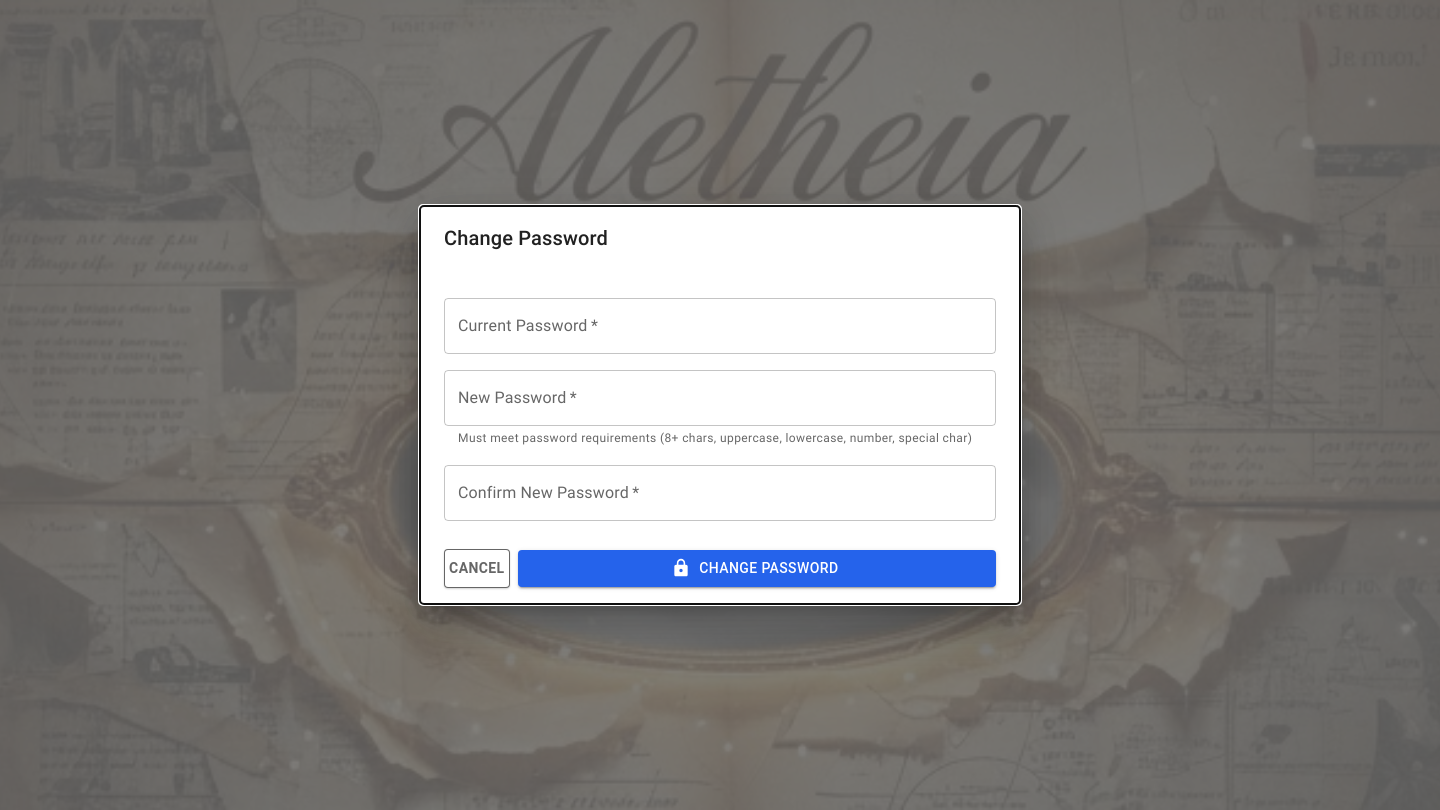
Authentication Flow Integration › Change Password Flow › should complete change password flow successfully
Type "OldPass123!" into the password field labelled "Current Password *" at (720, 326), box [444, 298, 996, 354]
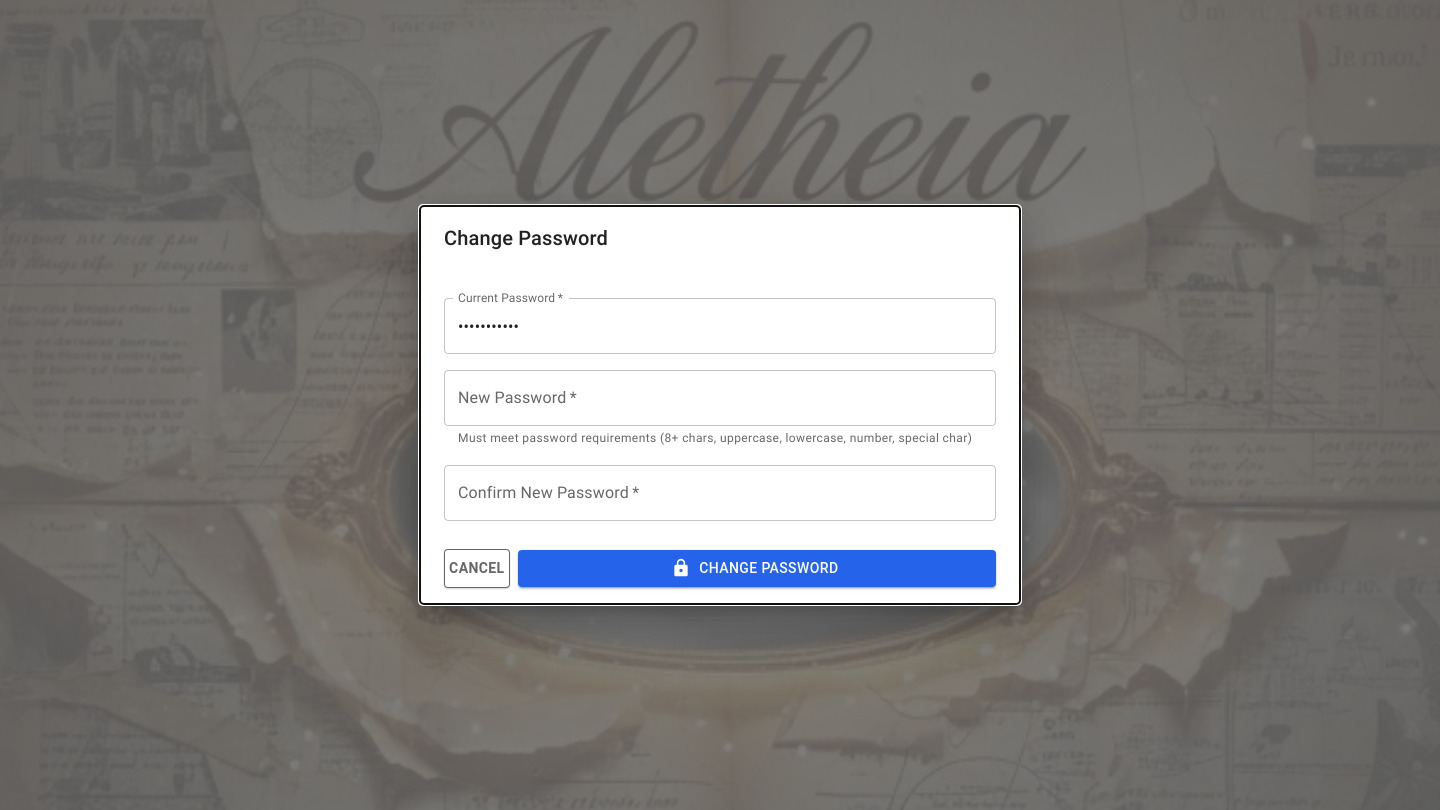
Type "NewPass123!" into the password field labelled "New Password *" at (720, 398), box [444, 370, 996, 426]
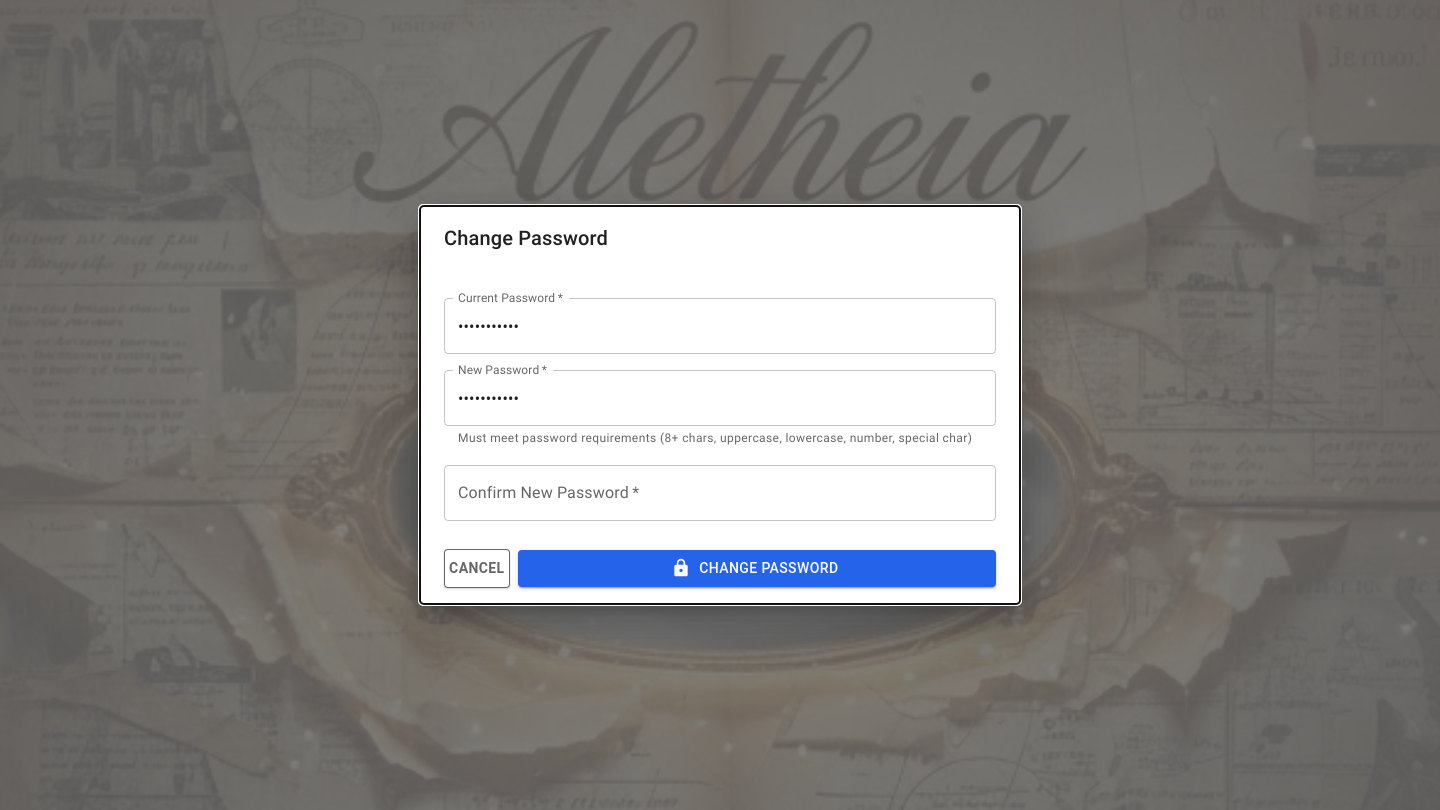
Type "NewPass123!" into the password field labelled "Confirm New Password *" at (720, 493), box [444, 465, 996, 521]
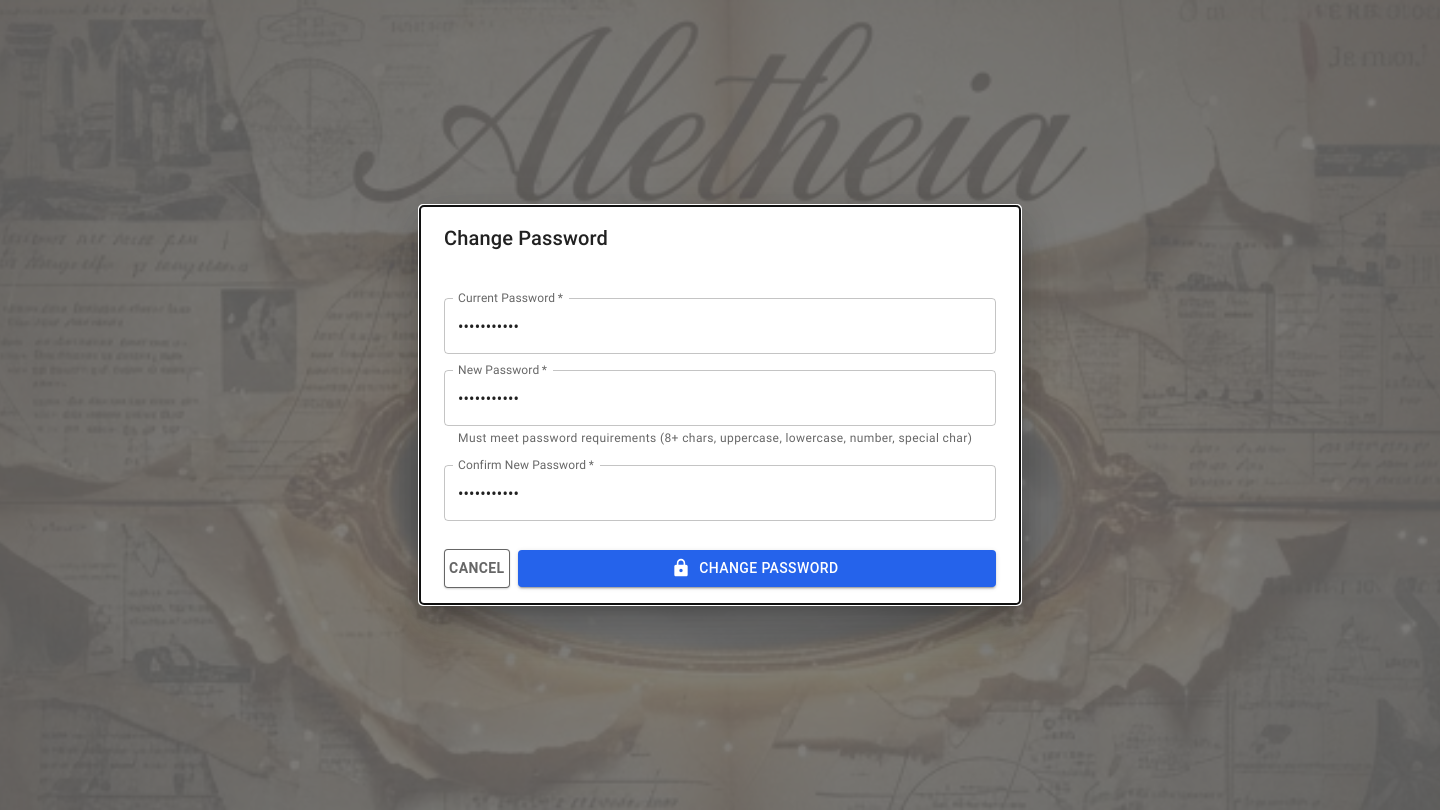
Click the button "Change Password" at (757, 568), box [518, 550, 996, 587]
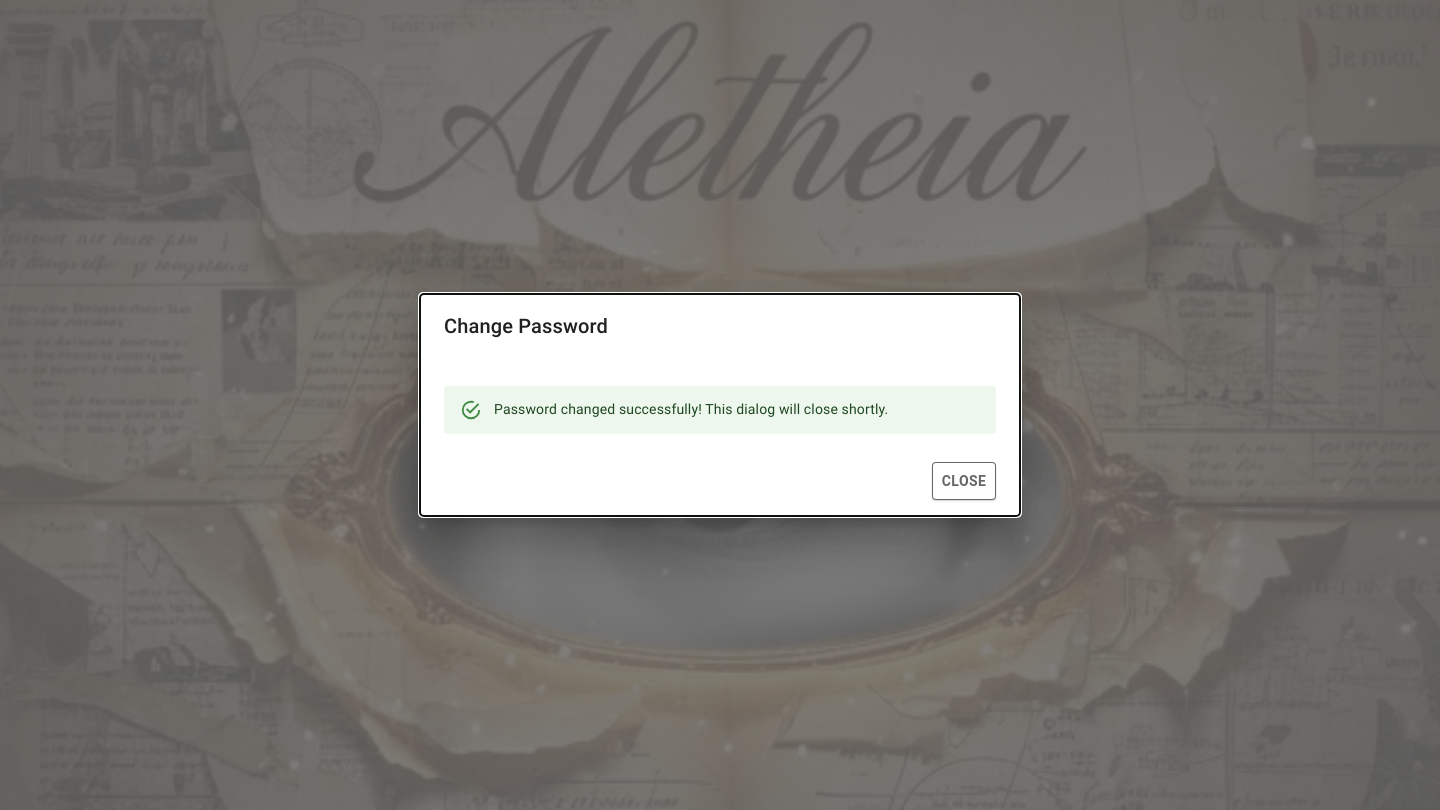
Expected: the text "Password changed successfully" is shown, [494, 402, 888, 418]
